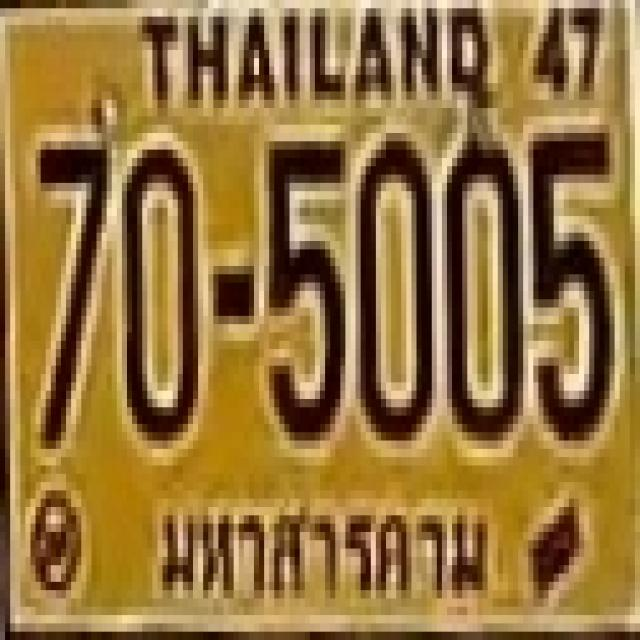0: (442, 133, 518, 432), (356, 129, 426, 436), (122, 142, 193, 432)
5: (528, 125, 610, 432), (264, 133, 340, 432)
7: (36, 142, 106, 440)
MKM: (146, 488, 498, 614)
